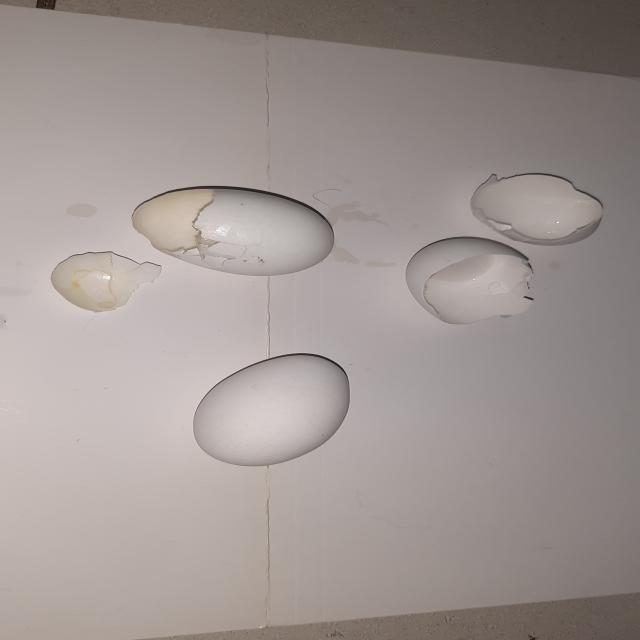egg shell: (189, 350, 356, 468), (134, 185, 339, 268), (394, 234, 542, 328), (465, 168, 612, 252), (46, 253, 142, 316)
